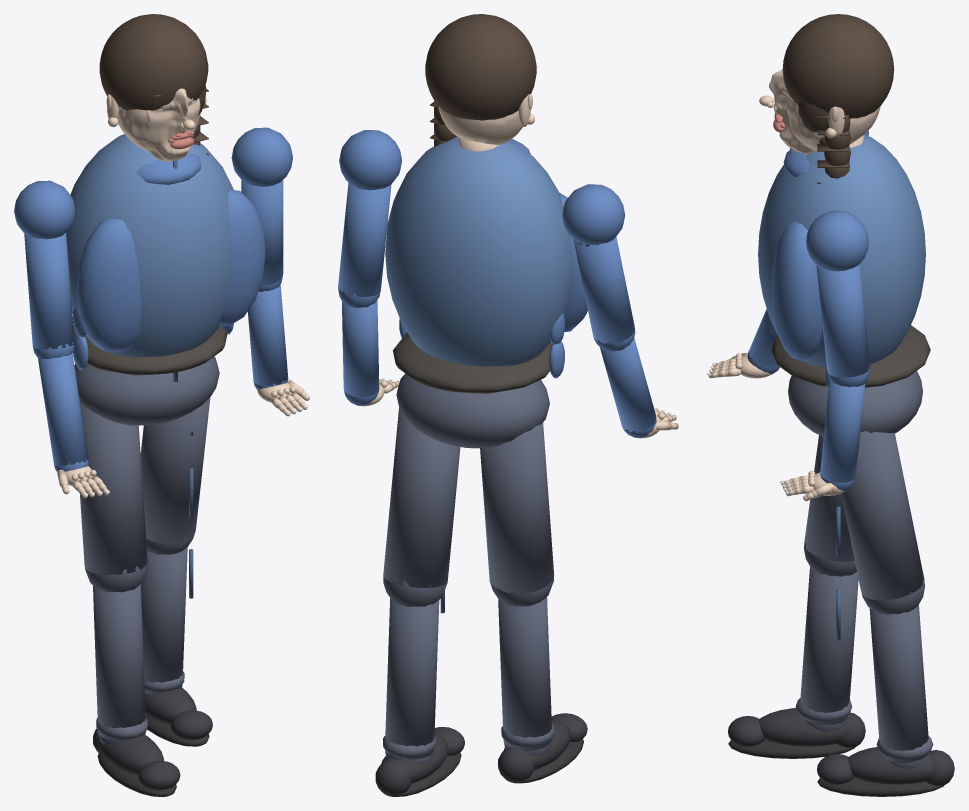
The model's file is hm_ped_rae_v8.glb.
3 views of the same model, side by side, from view 1: azimuth 30°, elevation 25°; view 2: azimuth 150°, elevation 25°; view 3: azimuth 270°, elevation 25° (orthographic). The views are drawn at different scales.
Parts seen in each view (by area): view 1: hm_ped_rae; view 2: hm_ped_rae; view 3: hm_ped_rae.
Part boxes in pixels (bbox=[...]): hm_ped_rae: bbox=[14, 14, 309, 796]; hm_ped_rae: bbox=[338, 14, 678, 796]; hm_ped_rae: bbox=[707, 14, 954, 796].
Size of the model in its own units: 0.7402 by 1.85 by 0.551.
